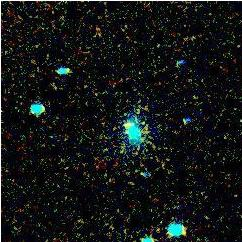star: (112, 109, 142, 139)
